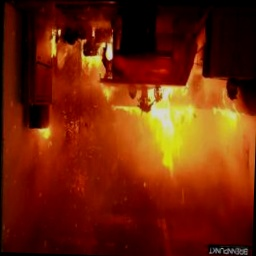fire: (112, 108, 255, 209)
